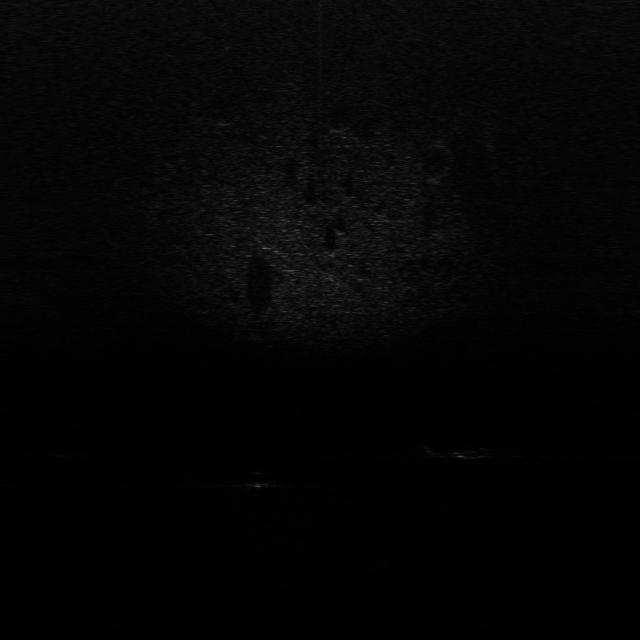ball: (239, 470, 272, 491)
human body: (417, 441, 502, 465)
